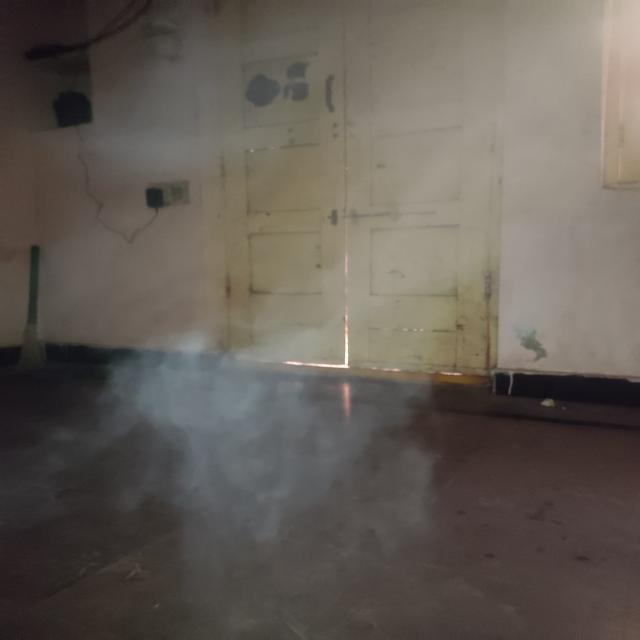smoke: (110, 282, 379, 514)
